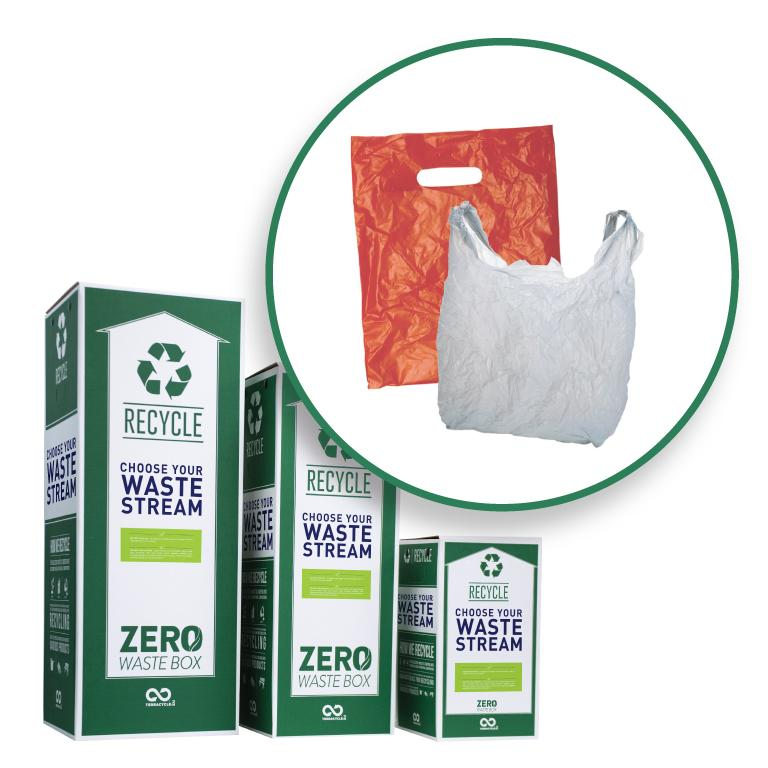plastic_bagwdw: (319, 98, 627, 449), (400, 171, 708, 473)
